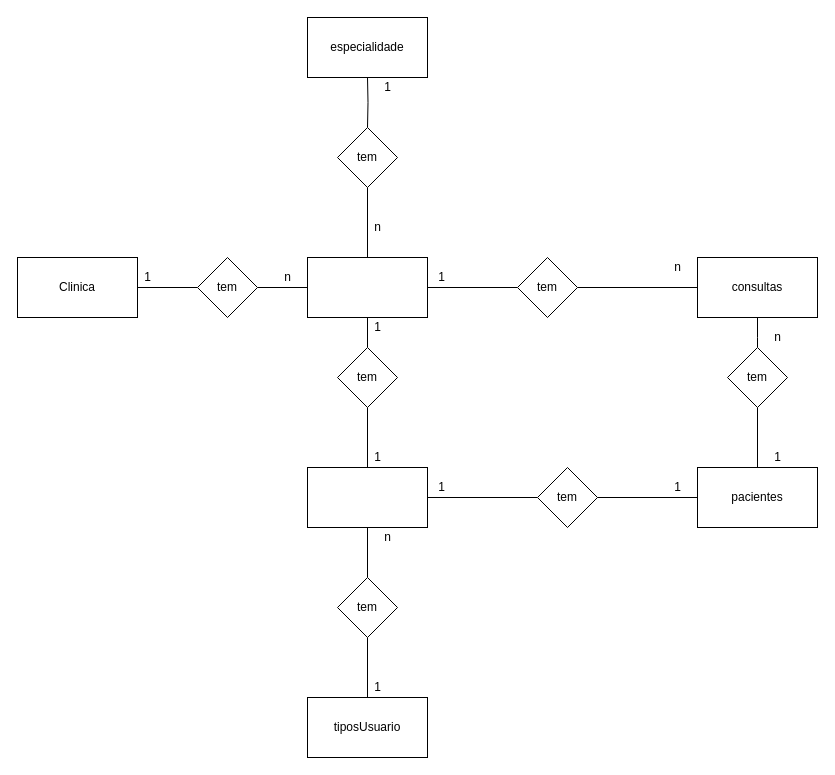
This 835x775 diagram has some shape labels left out. Each missing label, with the centre of its shape:
"medicos" belongs at (x=367, y=287).
"usuarios" belongs at (x=367, y=497).
